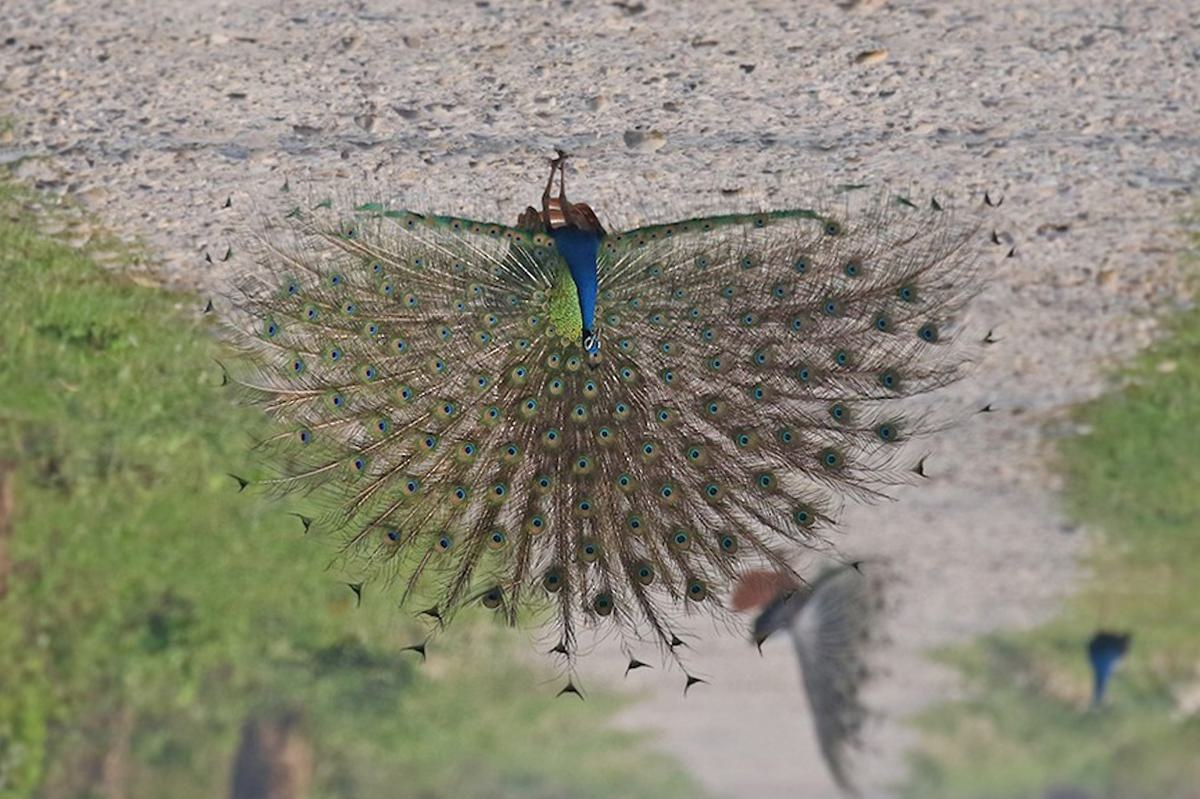peacock: (260, 144, 906, 664)
